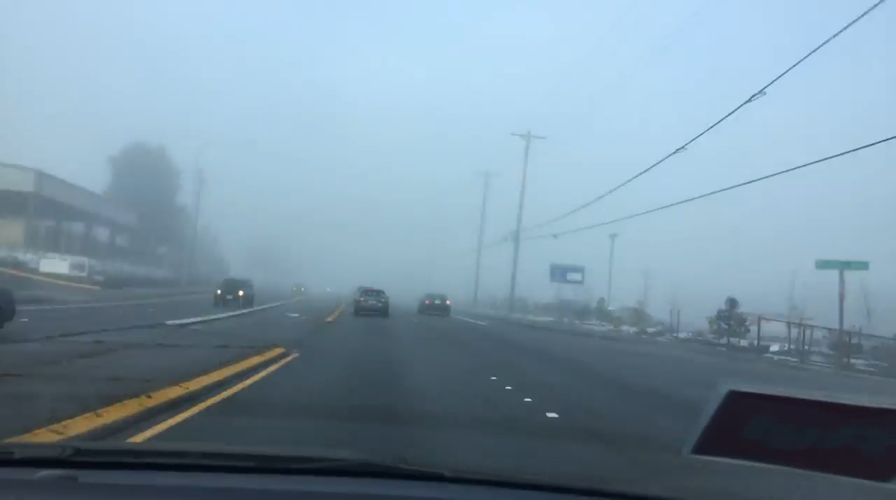car: (210, 275, 256, 312), (351, 286, 390, 317), (417, 291, 452, 317), (350, 285, 379, 305), (290, 280, 306, 296)
